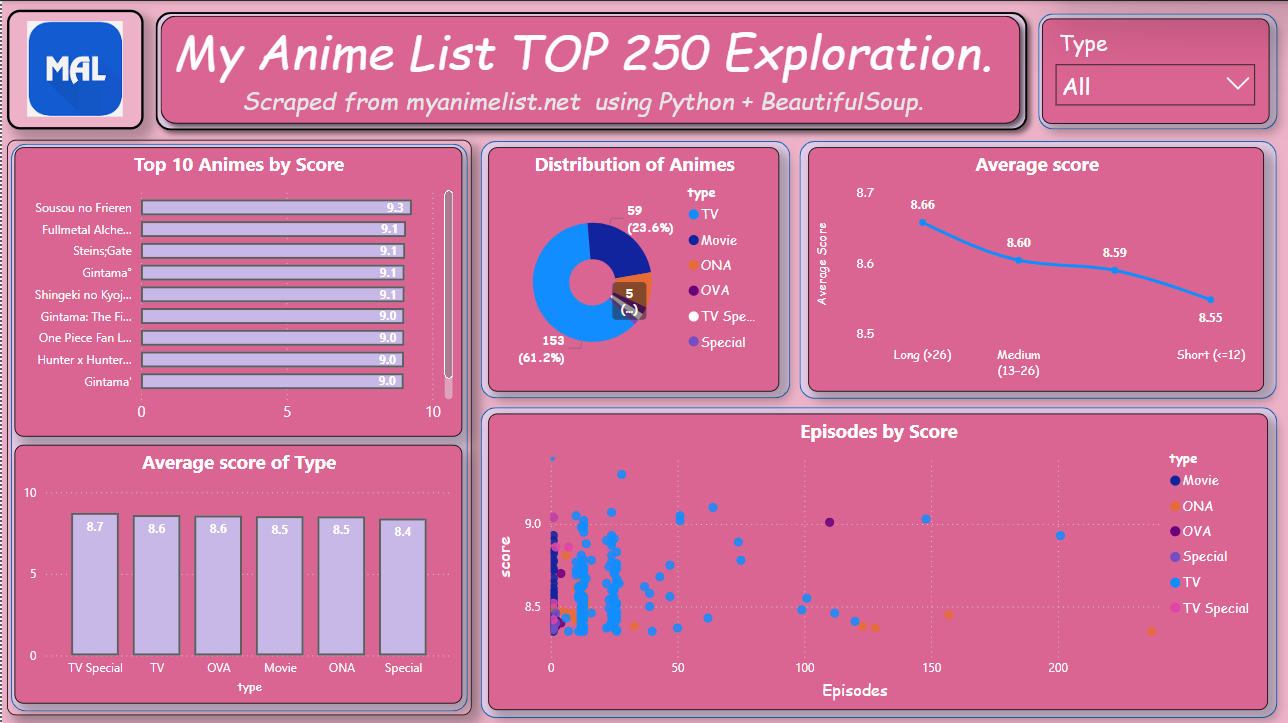

The page's visual inventory and layout, read from the dashboard file:
{"tool":"powerbi","page":{"name":"DashBoard","canvas":[1280,720],"ordinal":0},"visuals":[{"type":"group","id":"g1","title":"Group 1","box":[143.3,1.2,887.1,137.4],"z":0},{"type":"shape","box":[143.3,1.2,887.1,137.4],"z":0,"group":"g1"},{"type":"shape","box":[148.4,5.1,875,127],"z":0,"group":"g2"},{"type":"image","box":[4.9,8.6,136.2,119],"z":1000},{"type":"shape","box":[1030.7,12.3,238,115.3],"z":2000},{"type":"slicer","fields":{"Values":["myanimelist_top_250.type"]},"box":[1035.6,17.2,226,105],"z":3000},{"type":"shape","box":[4.9,138.7,462.6,573],"z":4000},{"type":"shape","box":[476.1,403.7,792.6,309.2],"z":5000},{"type":"shape","box":[476.1,139.9,308,256],"z":6000},{"type":"shape","box":[793.9,139.9,474.8,256.4],"z":7000},{"type":"barChart","title":"Top 10 Animes by Score","fields":{"Category":["myanimelist_top_250.title"],"Y":["Sum(myanimelist_top_250.score)"]},"box":[12.3,146,445.4,288],"z":8000},{"type":"columnChart","title":"Average score  of Type","fields":{"Y":["myanimelist_top_250.Avg Score"],"Category":["myanimelist_top_250.type"]},"box":[12.3,441.7,445.4,257.7],"z":9000},{"type":"donutChart","title":"Distribution of Animes","fields":{"Category":["myanimelist_top_250.type"],"Y":["CountNonNull(myanimelist_top_250.title)"]},"box":[483.4,146,289.6,242.9],"z":10000},{"type":"scatterChart","title":"Episodes by Score","fields":{"X":["myanimelist_top_250.episodes"],"Y":["myanimelist_top_250.score"],"Series":["myanimelist_top_250.type"]},"box":[483.4,411,776,295],"z":11000},{"type":"lineChart","title":"Average score ","fields":{"Y":["myanimelist_top_250.Avg Score"],"Category":["myanimelist_top_250.episode_bins"]},"box":[802.5,146,454,242.9],"z":12000},{"type":"group","id":"g2","title":"Group 1","box":[148.4,5.1,875,127],"z":13000},{"type":"textbox","box":[155.8,11,845.4,111.7],"z":14000}]}

Visuals, with their boxes in screenshot pixels (x1, y1, x2, y2), scaled from the page's 1280x720 canvas onto the 1288x723 screenshot:
"Group 1" group: 144,1,1037,139
shape: 144,1,1037,139
shape: 149,5,1030,133
image: 5,9,142,128
shape: 1037,12,1277,128
slicer - myanimelist_top_250.type: 1042,17,1269,123
shape: 5,139,470,715
shape: 479,405,1277,716
shape: 479,140,789,398
shape: 799,140,1277,398
"Top 10 Animes by Score" barChart: 12,147,461,436
"Average score  of Type" columnChart: 12,444,461,702
"Distribution of Animes" donutChart: 486,147,778,391
"Episodes by Score" scatterChart: 486,413,1267,709
"Average score " lineChart: 808,147,1264,391
"Group 1" group: 149,5,1030,133
textbox: 157,11,1007,123
